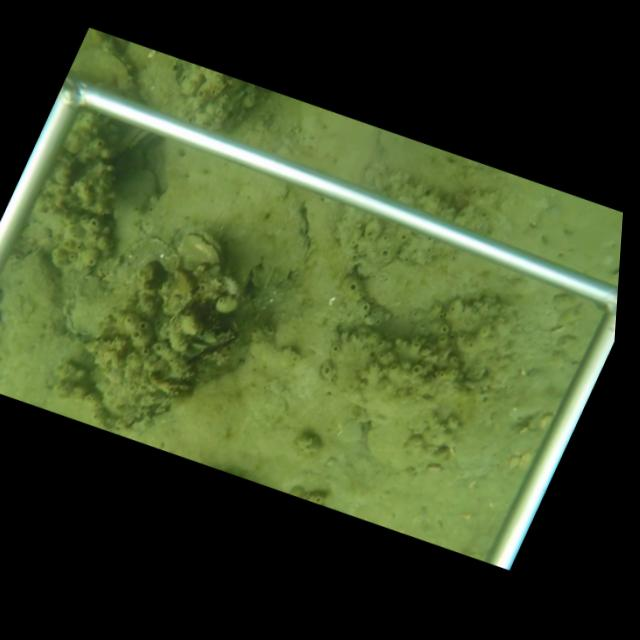Oyster-Closed: (90, 45, 139, 101)
Oyster-Open: (175, 227, 224, 272)
